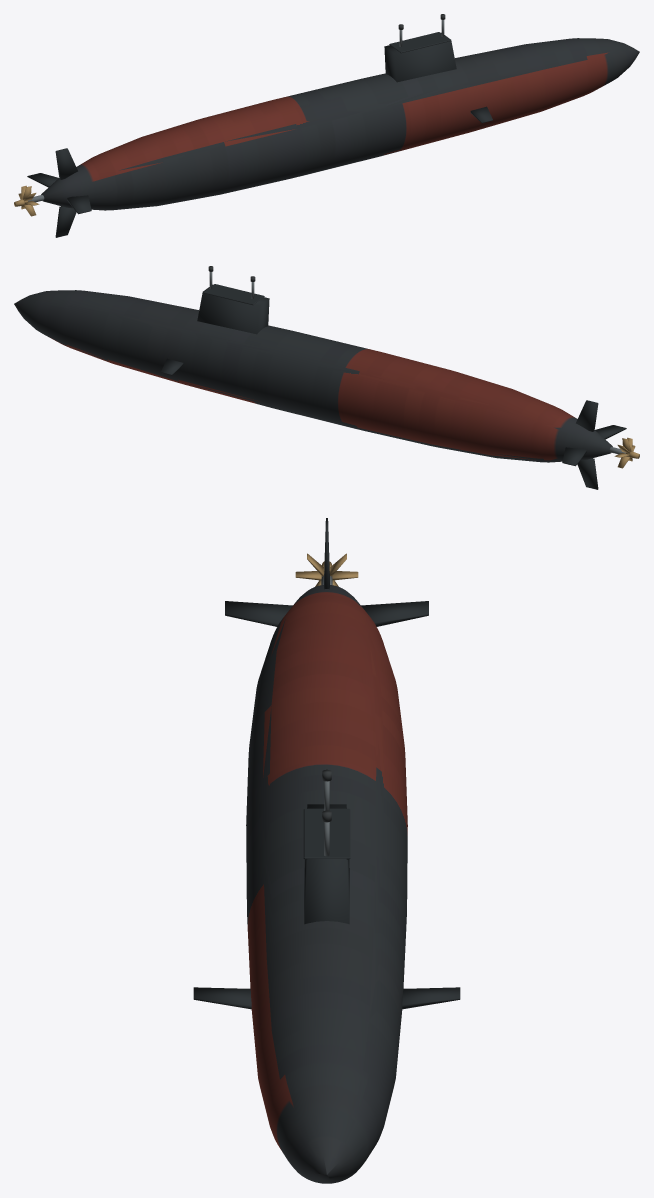
The model's file is UK_SSN_Dreadnought_LOD2.fbx.
3 views of the same model, one above another, from view 1: azimuth 30°, elevation 25°; view 2: azimuth 150°, elevation 25°; view 3: azimuth 270°, elevation 25° (orthographic). The views are drawn at different scales.
Parts seen in each view (by area): view 1: UK_SSN_Dreadnought_LOD2; view 2: UK_SSN_Dreadnought_LOD2; view 3: UK_SSN_Dreadnought_LOD2.
Boxes of the visible parts, x1,y1,x2,y2 form: UK_SSN_Dreadnought_LOD2: [14, 14, 639, 237]; UK_SSN_Dreadnought_LOD2: [14, 266, 639, 489]; UK_SSN_Dreadnought_LOD2: [193, 518, 460, 1183].
Bounding box in the file's own units: 84.75 × 15.66 × 16.63.
Materials: 6 (1 with a texture image).
